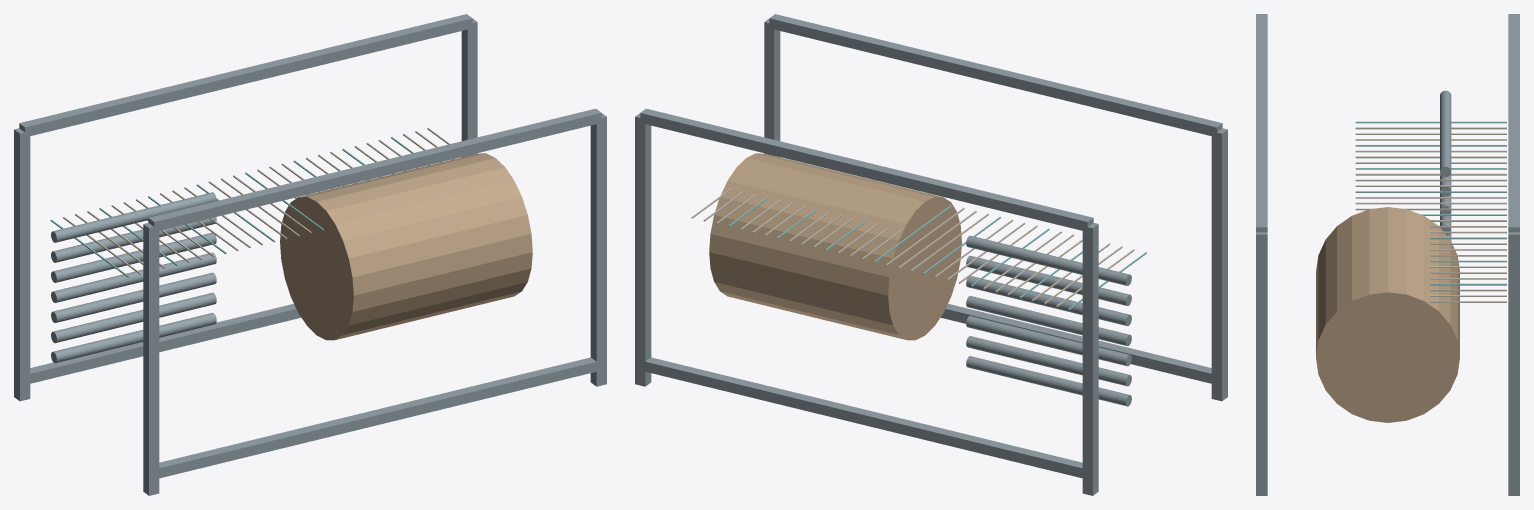
Rendered from warper.glb.
3 renders of one model, left to right at view 1: azimuth 30°, elevation 25°; view 2: azimuth 150°, elevation 25°; view 3: azimuth 270°, elevation 25°, orthographic. The views are drawn at different scales.
Parts seen in each view (by area): view 1: rotor, cross_-1.75_4, cross_1.75_4, cross_1.75_0.3, post_-3.5_-1.75, post_-3.5_1.75, post_3.5_1.75, cross_-1.75_0.3, post_3.5_-1.75, guide_roller_6, guide_roller_1, guide_roller_0 (+4 smaller); view 2: rotor, cross_1.75_4, cross_-1.75_4, cross_-1.75_0.3, post_-3.5_-1.75, post_-3.5_1.75, post_3.5_-1.75, cross_1.75_0.3, post_3.5_1.75, guide_roller_2, guide_roller_6, guide_roller_0 (+4 smaller); view 3: rotor, post_3.5_-1.75, post_3.5_1.75, cross_-1.75_4, cross_1.75_4, guide_roller_6, warp_thread_10, warp_thread_14, warp_thread_9, warp_thread_1, warp_thread_6, warp_thread_0 (+5 smaller).
Part boxes in pixels (<box>): rotor: <box>280,153,532,340</box>; cross_-1.75_4: <box>19,14,472,136</box>; cross_1.75_4: <box>148,108,601,230</box>; cross_1.75_0.3: <box>154,357,596,479</box>; post_-3.5_-1.75: <box>14,128,30,401</box>; post_-3.5_1.75: <box>143,223,159,495</box>; post_3.5_1.75: <box>590,113,606,386</box>; cross_-1.75_0.3: <box>25,303,300,384</box>; post_3.5_-1.75: <box>461,18,477,157</box>; guide_roller_6: <box>51,192,216,242</box>; guide_roller_1: <box>51,292,216,343</box>; guide_roller_0: <box>51,313,216,363</box>; rotor: <box>709,153,961,340</box>; cross_1.75_4: <box>769,14,1222,135</box>; cross_-1.75_4: <box>640,108,1093,230</box>; cross_-1.75_0.3: <box>640,357,1082,478</box>; post_-3.5_-1.75: <box>1082,223,1098,495</box>; post_-3.5_1.75: <box>1211,128,1227,401</box>; post_3.5_-1.75: <box>635,113,651,386</box>; cross_1.75_0.3: <box>941,303,1211,383</box>; post_3.5_1.75: <box>764,18,780,157</box>; guide_roller_2: <box>966,316,1131,366</box>; guide_roller_6: <box>966,235,1131,285</box>; guide_roller_0: <box>966,356,1131,406</box>; rotor: <box>1316,207,1459,422</box>; post_3.5_-1.75: <box>1508,232,1519,495</box>; post_3.5_1.75: <box>1256,232,1267,495</box>; cross_-1.75_4: <box>1508,14,1519,232</box>; cross_1.75_4: <box>1256,14,1267,232</box>; guide_roller_6: <box>1440,90,1451,177</box>; warp_thread_10: <box>1355,179,1506,181</box>; warp_thread_14: <box>1355,202,1506,204</box>; warp_thread_9: <box>1355,173,1506,175</box>; warp_thread_1: <box>1355,127,1506,129</box>; warp_thread_6: <box>1355,156,1506,158</box>; warp_thread_0: <box>1355,121,1506,123</box>.
Bounding box in the file's own units: 7.16 × 4.08 × 3.66.
